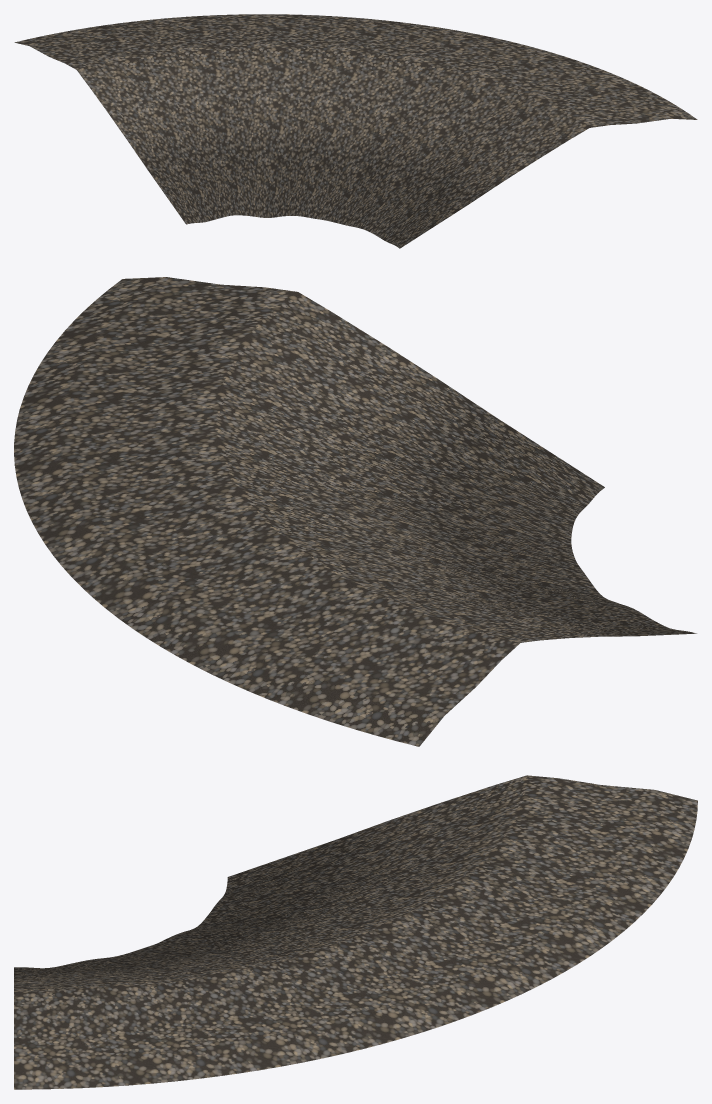
File: beach_shingle_inner_v5_autumn.glb
The picture shows the model from 3 angles, top to bottom: view 1: azimuth 30°, elevation 25°; view 2: azimuth 150°, elevation 25°; view 3: azimuth 270°, elevation 25°; orthographic projection. The views are drawn at different scales.
Parts seen in each view (by area): view 1: beach_shingle_inner; view 2: beach_shingle_inner; view 3: beach_shingle_inner.
Boxes of the visible parts, <box> form: beach_shingle_inner: <box>14,14,697,248</box>; beach_shingle_inner: <box>14,277,696,746</box>; beach_shingle_inner: <box>14,775,697,1089</box>.
Bounding box in the file's own units: 6.4 × 1.1 × 6.4.
1 material, 1 textured.
